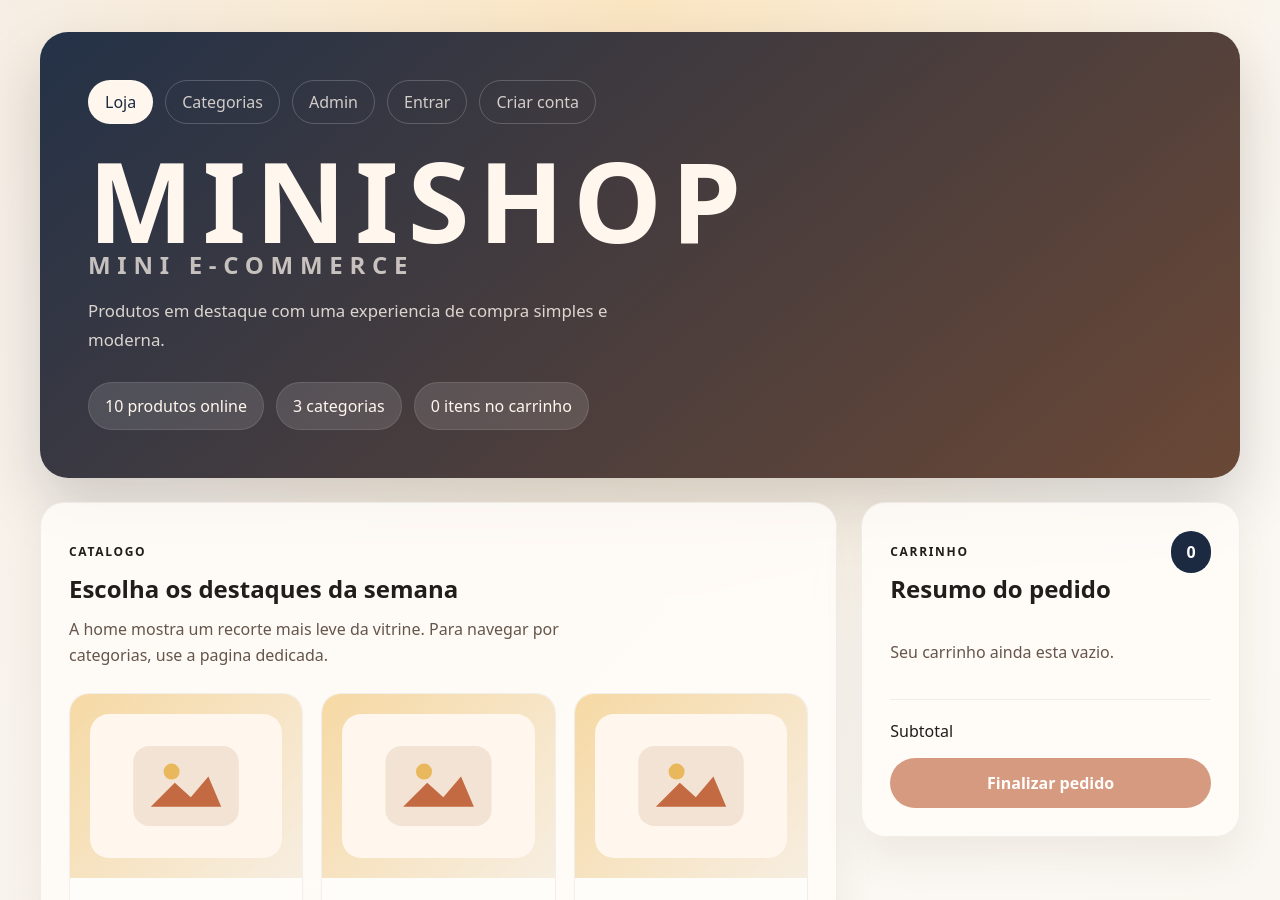
Test case: App › abre a pagina de cadastro pela navegacao
Click the link "Criar conta": x=538, y=102 [480,80,596,124]
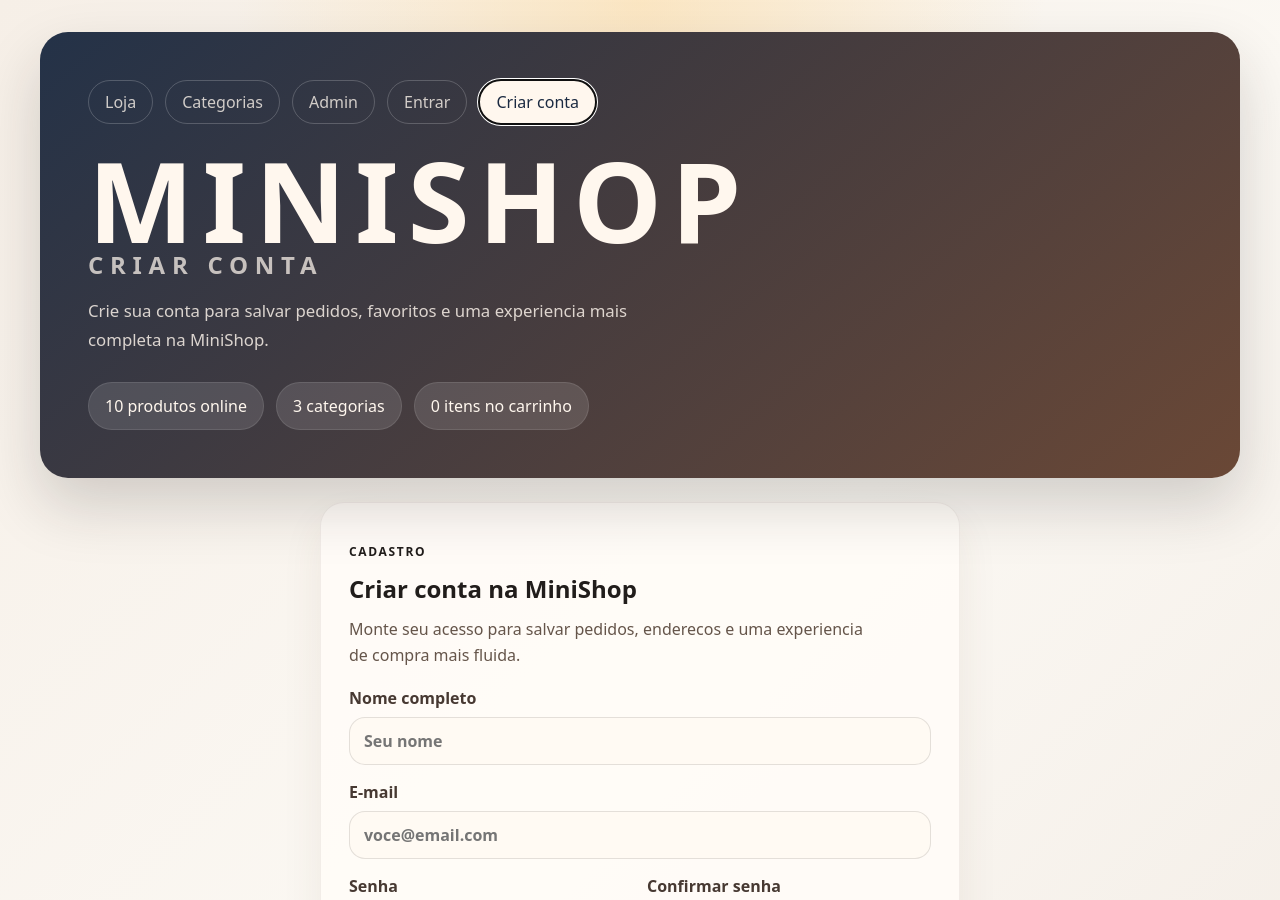
Expected: the heading "Criar conta na MiniShop" is shown, [349,572,637,605]
Expected: the text "Monte seu acesso" is shown, [349,618,863,666]
